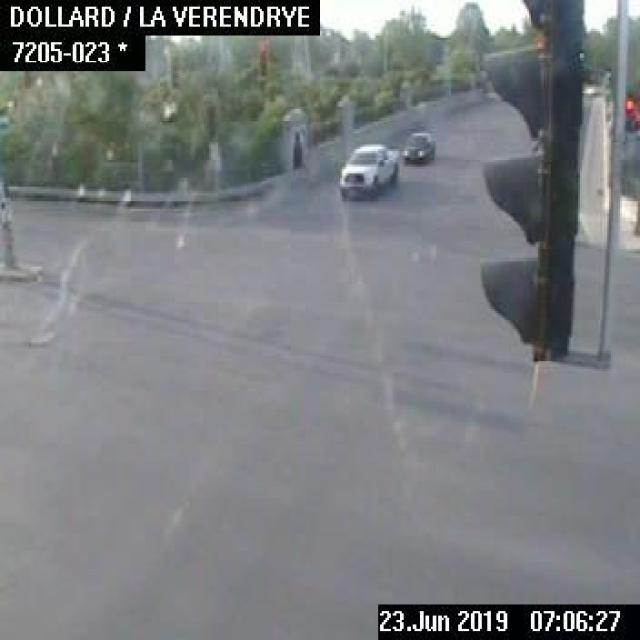vehicle: (336, 140, 398, 196), (402, 129, 434, 160)
